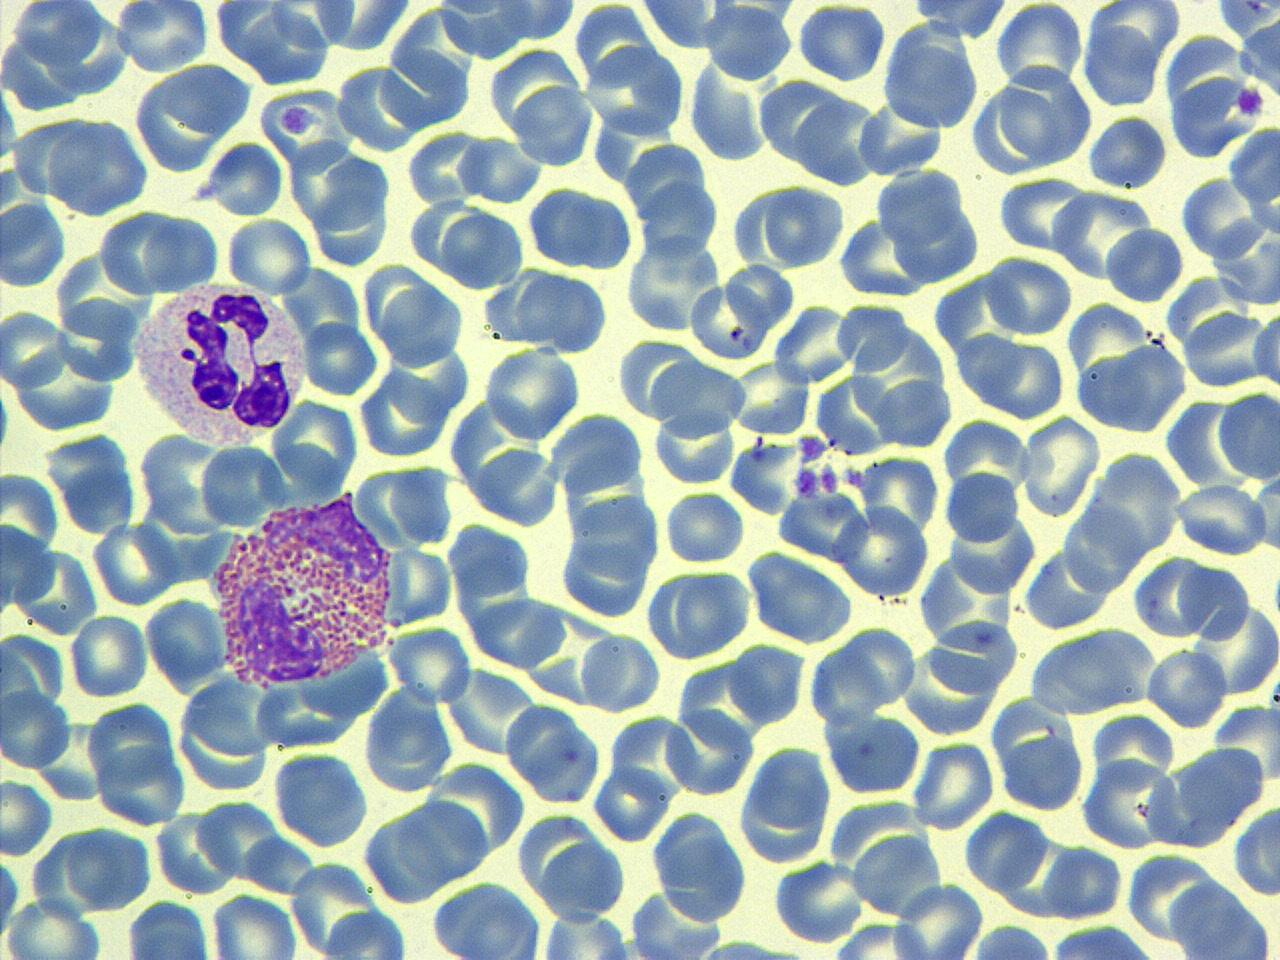Platelets: (0, 386, 15, 456)
RBC: (2, 0, 132, 110), (872, 166, 986, 289), (1025, 624, 1157, 718), (1076, 324, 1188, 434), (736, 742, 832, 866), (42, 118, 151, 220), (288, 858, 399, 957), (744, 548, 856, 644), (584, 40, 690, 139), (272, 747, 372, 850), (480, 344, 584, 442), (996, 62, 1092, 168), (362, 687, 457, 794), (626, 230, 722, 334), (646, 564, 747, 660), (512, 704, 603, 808), (1165, 874, 1275, 960), (835, 502, 931, 600), (1079, 756, 1177, 852), (270, 395, 360, 498), (821, 708, 923, 798), (256, 86, 356, 172), (922, 614, 1021, 700), (1081, 9, 1165, 110), (992, 2, 1084, 94), (146, 593, 228, 696), (910, 736, 996, 834), (558, 529, 652, 618), (770, 858, 865, 946), (1024, 411, 1102, 518), (64, 822, 152, 916), (308, 171, 392, 267), (94, 743, 187, 828), (996, 727, 1086, 814), (763, 179, 846, 272), (92, 518, 177, 608), (981, 253, 1073, 336), (467, 595, 568, 670), (542, 838, 626, 928), (704, 2, 796, 84), (794, 3, 888, 83), (996, 174, 1090, 253), (386, 622, 473, 707), (381, 284, 465, 372), (1146, 642, 1228, 732), (224, 215, 314, 297), (577, 629, 664, 713), (983, 334, 1067, 420), (890, 881, 982, 959), (512, 84, 597, 168), (113, 0, 212, 72), (1175, 482, 1271, 556), (962, 812, 1048, 894), (69, 612, 150, 699), (728, 638, 806, 728), (686, 279, 768, 362), (652, 404, 735, 486), (1103, 221, 1185, 304), (441, 208, 523, 291), (142, 212, 222, 295), (1087, 110, 1169, 190), (1041, 841, 1123, 920), (663, 487, 747, 564), (0, 198, 70, 290), (206, 137, 285, 218), (1218, 384, 1280, 486), (2, 898, 105, 959), (0, 686, 74, 770), (302, 317, 379, 397), (210, 891, 300, 959), (2, 302, 67, 392), (308, 0, 415, 53), (123, 898, 214, 960), (634, 0, 740, 53), (536, 906, 636, 958), (314, 907, 414, 958), (1232, 796, 1280, 902), (0, 776, 53, 857), (828, 917, 930, 959), (490, 0, 580, 43), (968, 922, 1057, 960), (1251, 304, 1280, 390)
WBC: (207, 488, 396, 687), (130, 277, 310, 451), (809, 298, 959, 459), (1182, 118, 1280, 312), (0, 0, 136, 112), (870, 159, 985, 291), (134, 59, 255, 176), (20, 121, 149, 219), (648, 806, 750, 928), (882, 12, 984, 131), (478, 340, 585, 444), (748, 546, 856, 644), (272, 746, 372, 850), (504, 700, 603, 802), (430, 876, 545, 960), (1164, 876, 1276, 960), (823, 710, 925, 796), (794, 3, 890, 84), (1214, 0, 1280, 114), (431, 0, 550, 61), (0, 196, 70, 290), (1230, 798, 1280, 901), (536, 908, 636, 959), (1042, 922, 1164, 958), (907, 0, 1017, 38)
